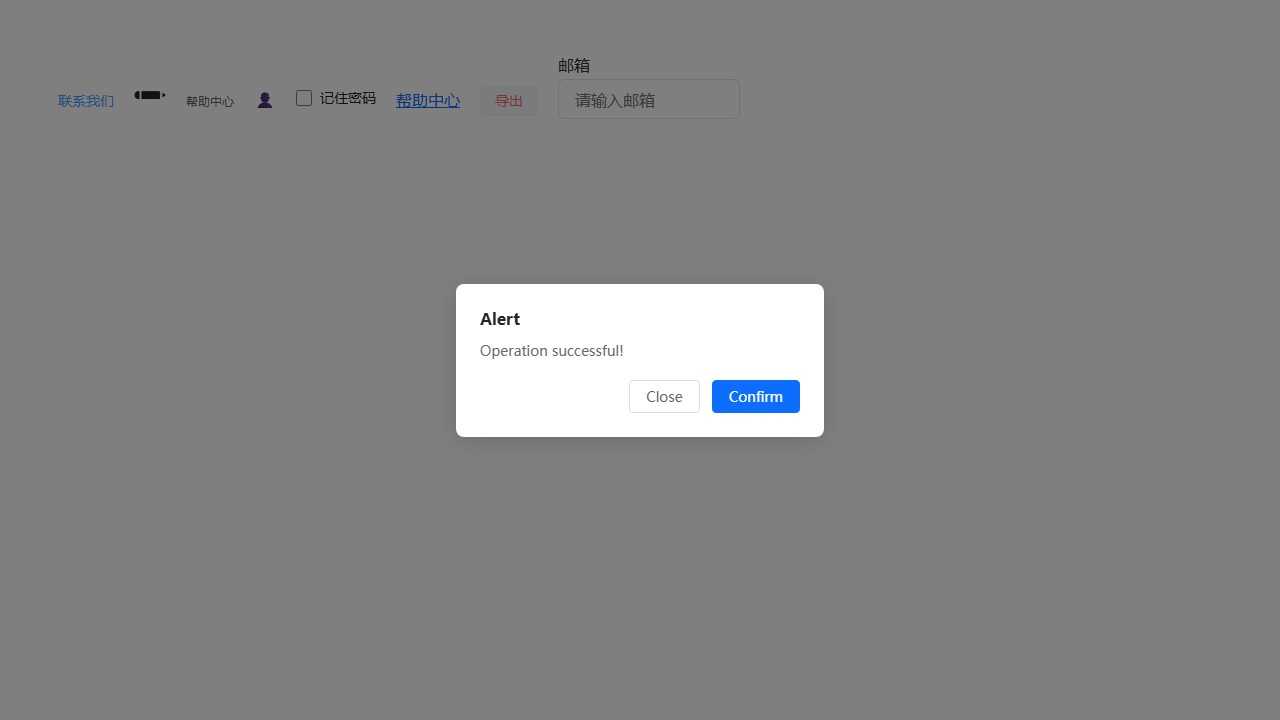button: (712, 380, 800, 412), (629, 380, 700, 412), (480, 85, 538, 115)
checkbox: (296, 90, 312, 106)
icon: (320, 88, 376, 107), (134, 77, 166, 108), (254, 91, 276, 107)
input: (558, 79, 740, 119)
link: (396, 88, 460, 110), (58, 91, 114, 110), (186, 92, 234, 108)
modal: (0, 0, 1280, 720)
radio: (296, 88, 376, 107)
